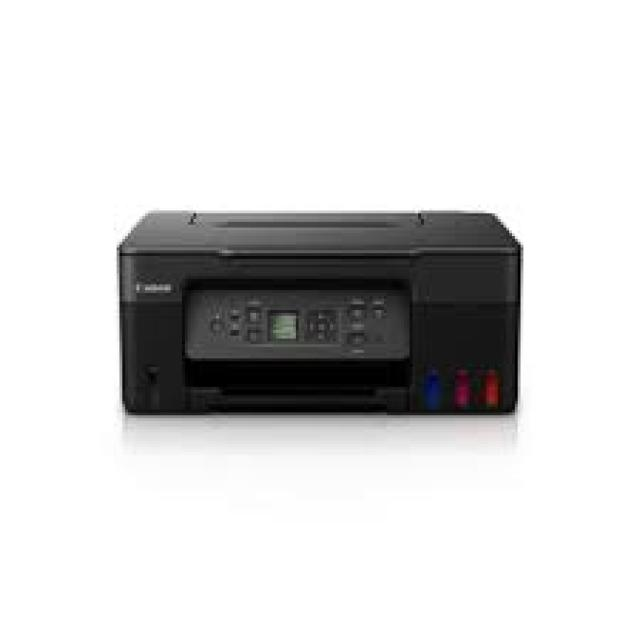printer: (113, 208, 520, 415)
